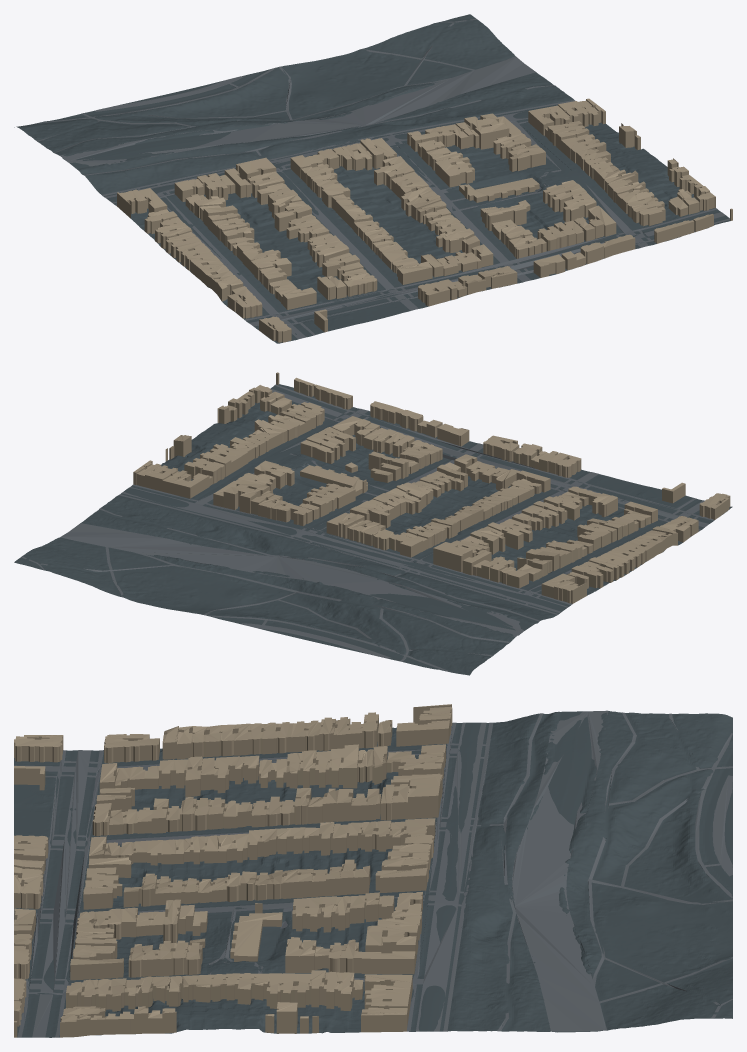
The model's file is epsg26910-1422-10887.lod0.glb.
3 views of the same model, one above another, from view 1: azimuth 30°, elevation 25°; view 2: azimuth 150°, elevation 25°; view 3: azimuth 270°, elevation 25° (orthographic). The views are drawn at different scales.
Parts seen in each view (by area): view 1: epsg26910-1422-10887-lod0; view 2: epsg26910-1422-10887-lod0; view 3: epsg26910-1422-10887-lod0.
Part boxes in pixels (x1,y1,x2,y2): epsg26910-1422-10887-lod0: [14, 14, 732, 343]; epsg26910-1422-10887-lod0: [14, 372, 732, 675]; epsg26910-1422-10887-lod0: [14, 704, 732, 1037].
Size of the model in its own units: 384 by 30.74 by 384.
